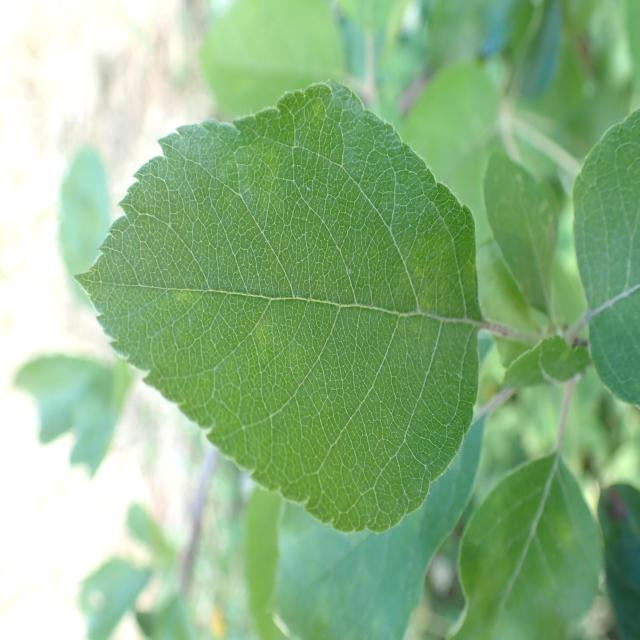healthy: (75, 77, 482, 535), (448, 450, 605, 640), (572, 106, 640, 409)
